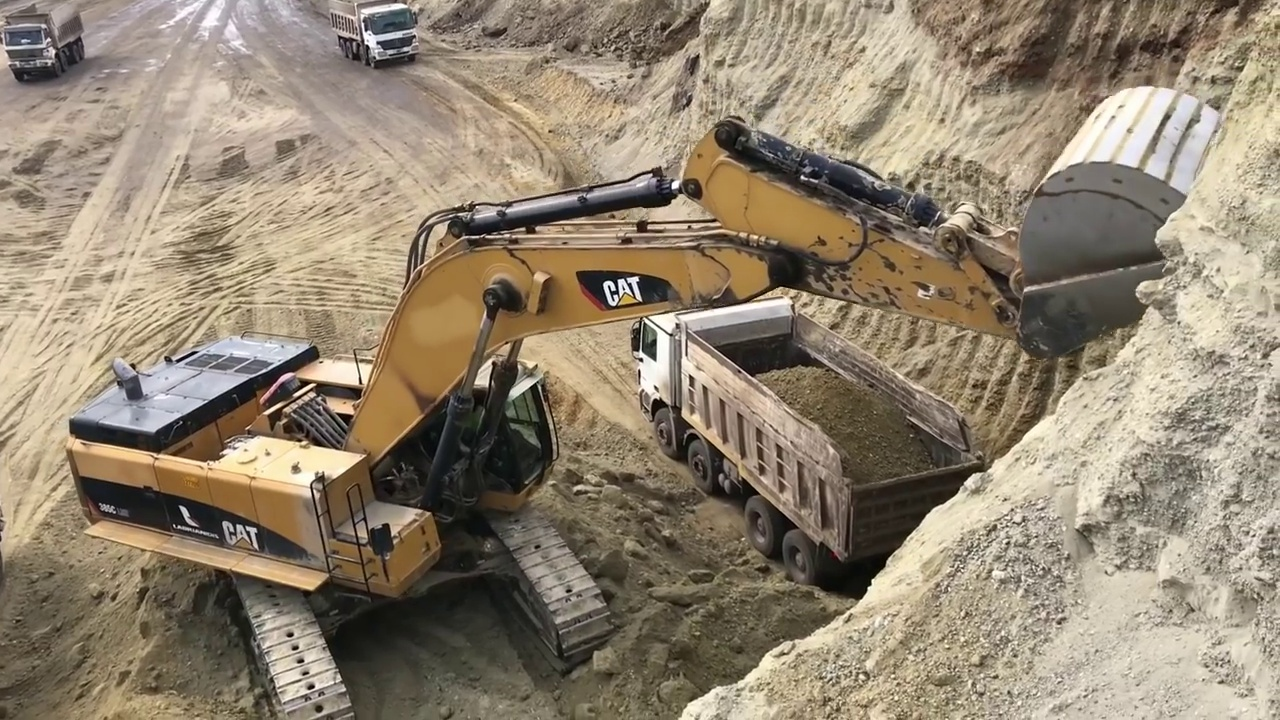excavator: (64, 87, 1226, 718)
truck: (639, 306, 989, 576), (6, 1, 88, 79), (329, 4, 415, 67)
